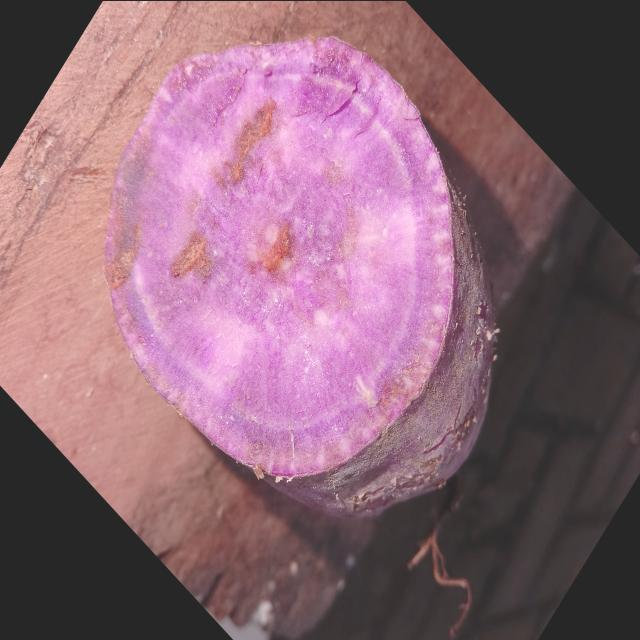Sick Sweet Potato_Tuber Rot: (105, 37, 454, 478)
